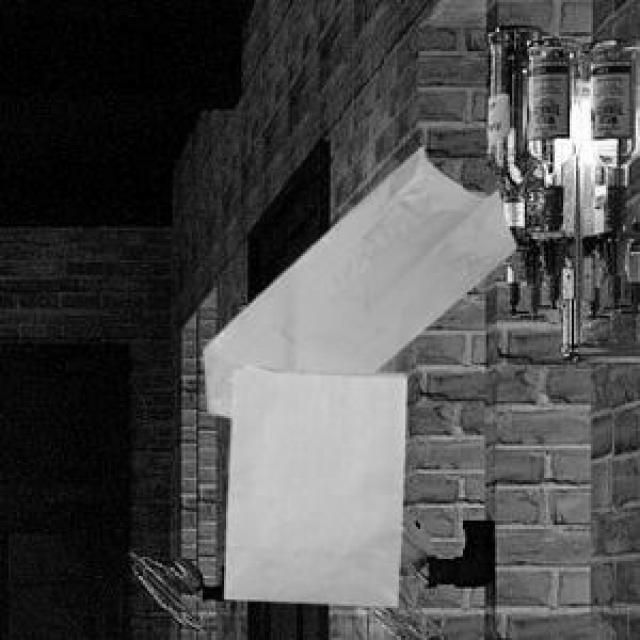paper: (220, 363, 403, 602)
